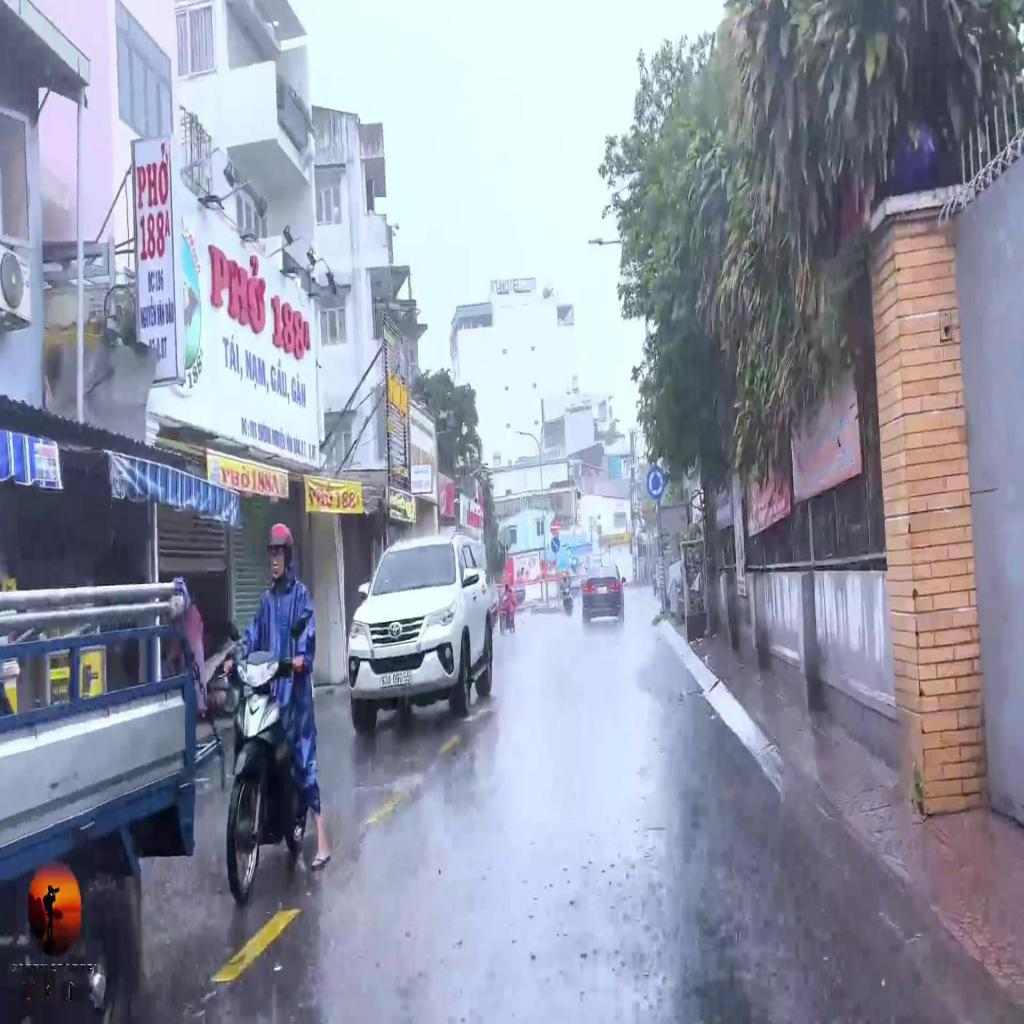cam_xe_di_nguoc_chieu: (550, 516, 560, 536)
huong_phai_di_vuot_chuong_ngai_vat_phai: (551, 536, 559, 554)
noi_giao_nhau_chay_theo_vong: (646, 466, 665, 502)
